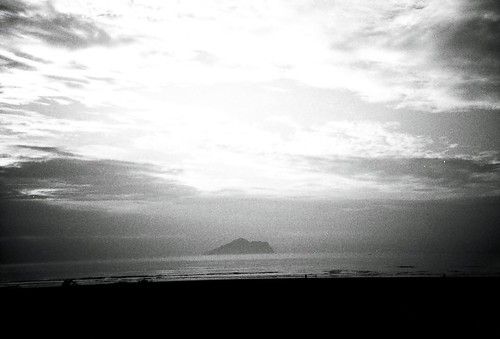turtleIsland: (203, 236, 276, 258)
